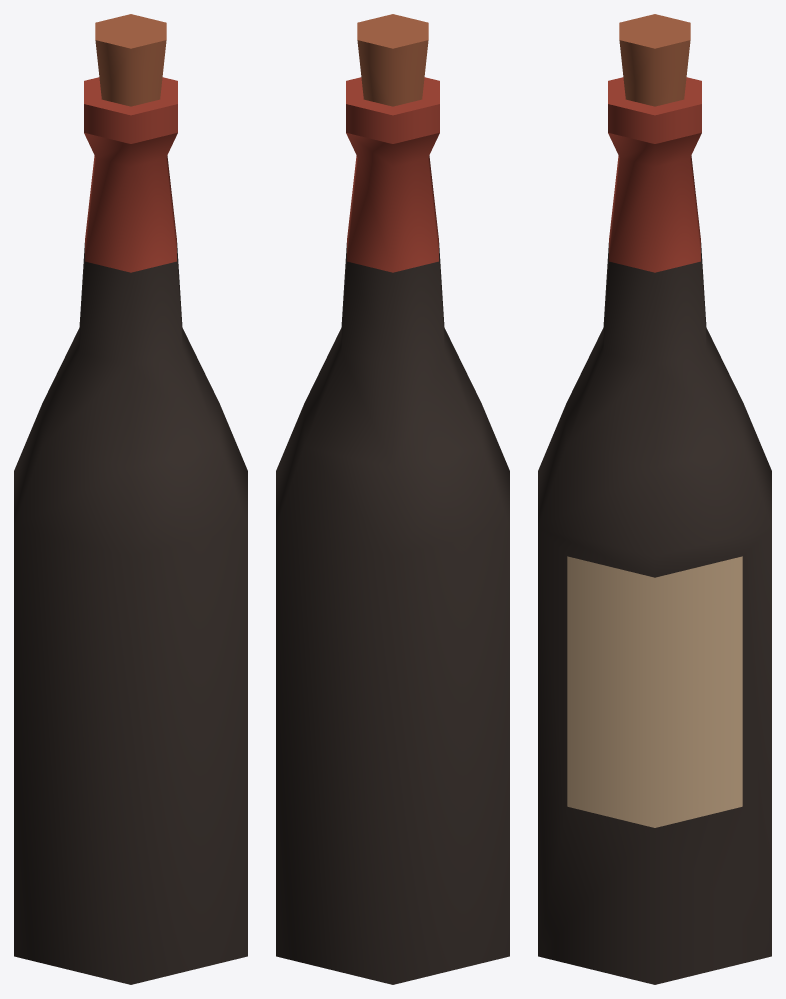
The model's file is wineBottle.fbx.
The picture shows the model from 3 angles, left to right: view 1: azimuth 30°, elevation 25°; view 2: azimuth 150°, elevation 25°; view 3: azimuth 270°, elevation 25°; orthographic projection.
Visible parts, largest first — view 1: wine-red; view 2: wine-red; view 3: wine-red.
Boxes of the visible parts, x1,y1,x2,y2 form: wine-red: [14, 14, 247, 984]; wine-red: [276, 14, 509, 984]; wine-red: [538, 14, 771, 984].
Bounding box in the file's own units: 19.08 × 69.89 × 16.52.
